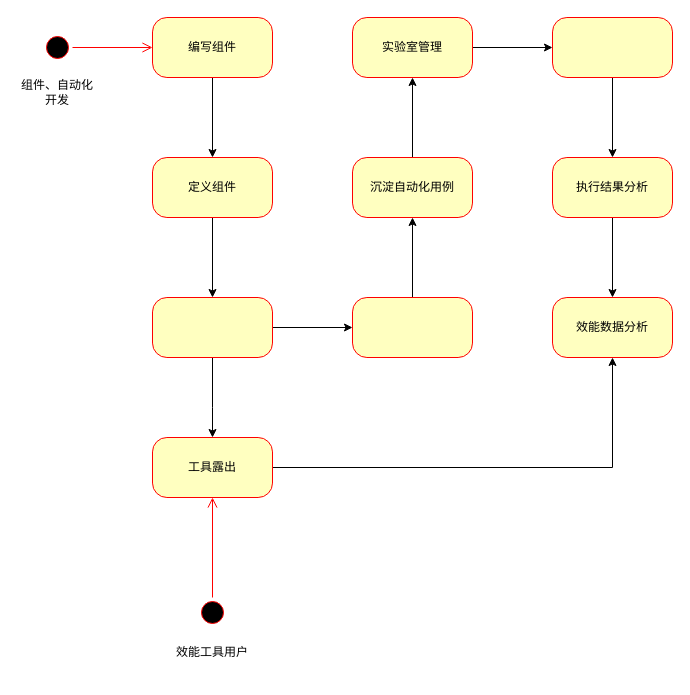
The diagram is 690 pixels wide and 695 high, and some of its shapes have lost their labels. Each missing label, with the centre of its shape:
数据录入: the point at 412,327
流程编排: the point at 212,327
调度执行: the point at 612,47
